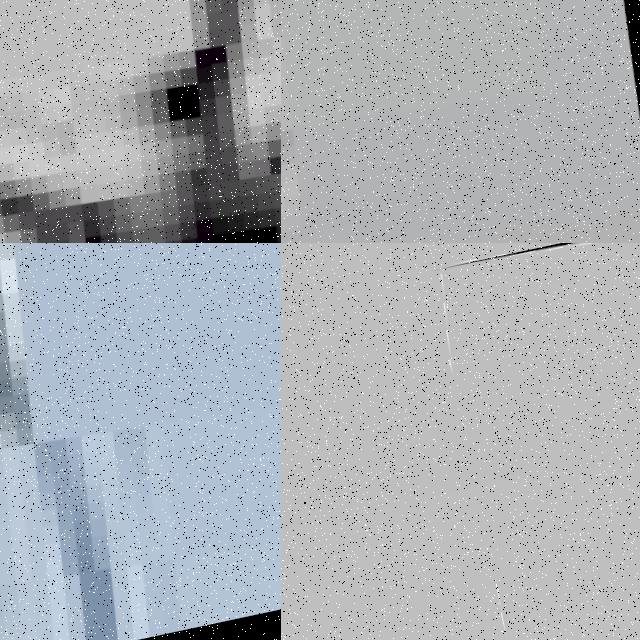drone: (0, 243, 281, 640), (281, 0, 640, 243), (429, 243, 640, 640), (0, 0, 281, 243)
